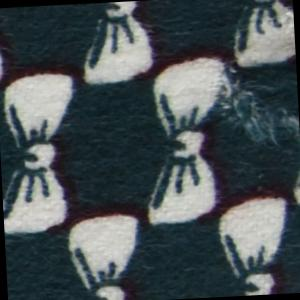Damage: (201, 53, 300, 169)
